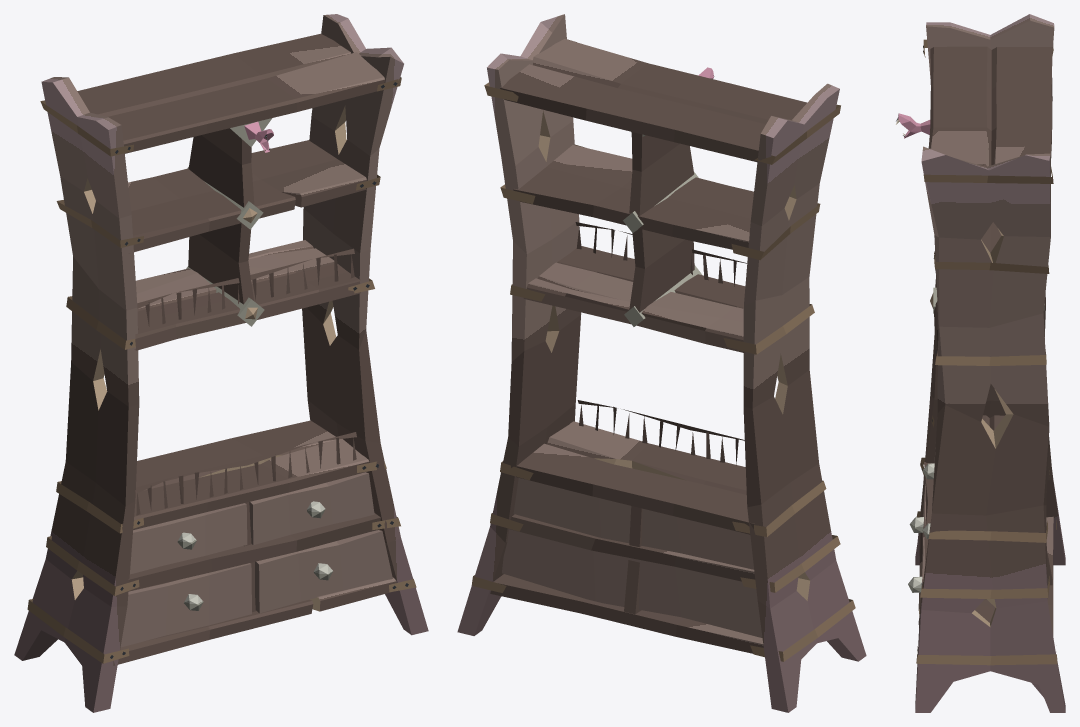
Rendered from Wardrobe_01.fbx.
3 views of the same model, side by side, from view 1: azimuth 30°, elevation 25°; view 2: azimuth 150°, elevation 25°; view 3: azimuth 270°, elevation 25° (orthographic). The views are drawn at different scales.
Parts seen in each view (by area): view 1: Wardrobe_01; view 2: Wardrobe_01; view 3: Wardrobe_01.
Boxes of the visible parts, x1,y1,x2,y2 form: Wardrobe_01: [14, 14, 428, 712]; Wardrobe_01: [457, 14, 866, 712]; Wardrobe_01: [896, 14, 1065, 712].
Bounding box in the file's own units: 137 × 227 × 63.15.
Materials: 1 (1 with a texture image).
